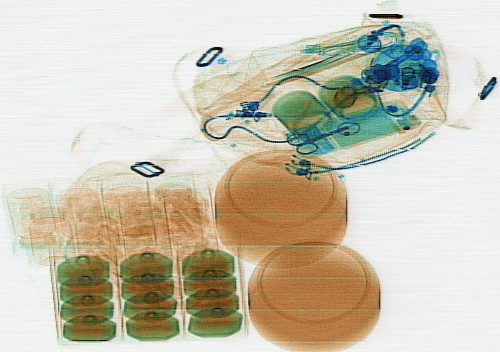scissors: (282, 123, 351, 154)
